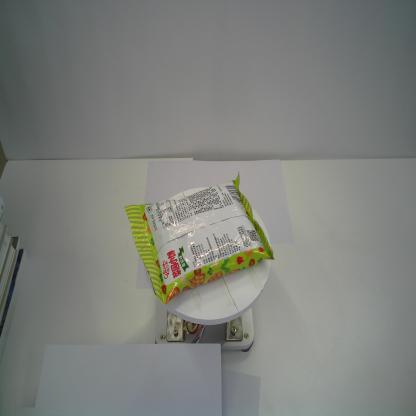Puffed Food: (124, 170, 276, 306)
